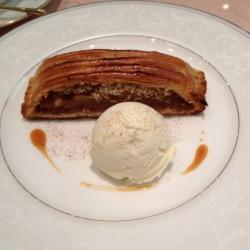apple_pie: (19, 47, 220, 130)
icecream: (82, 99, 180, 185)
